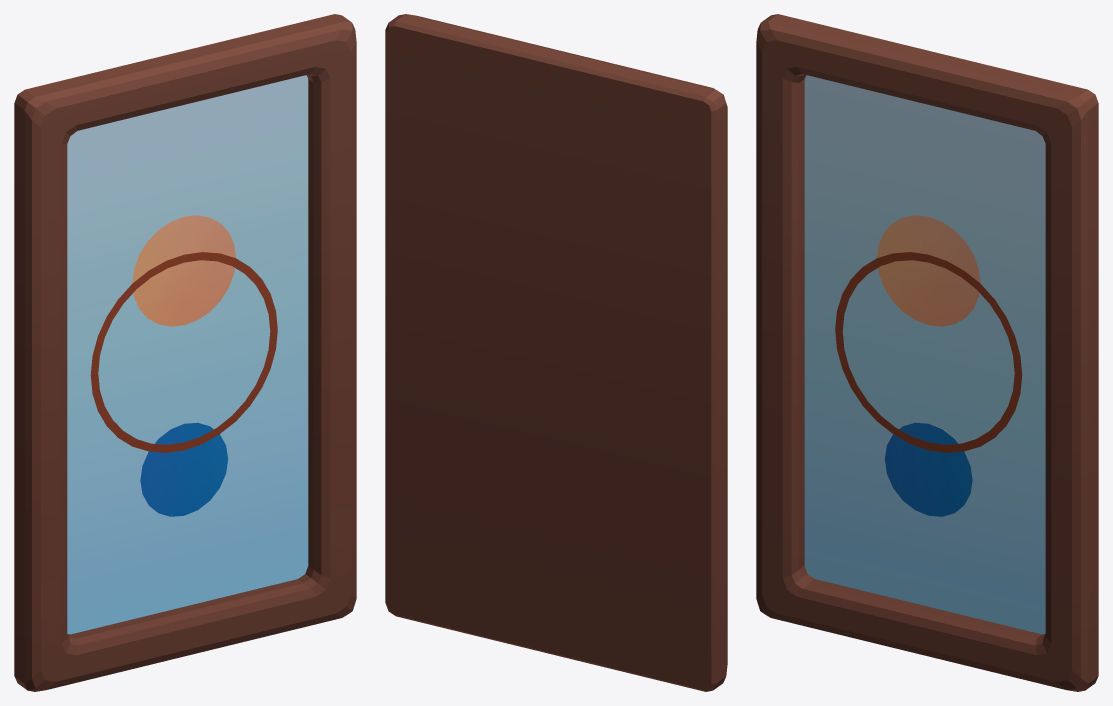
Rendered from Picture_17.glb.
The picture shows the model from 3 angles, left to right: view 1: azimuth 30°, elevation 25°; view 2: azimuth 150°, elevation 25°; view 3: azimuth 330°, elevation 25°; orthographic projection.
Visible parts, largest first — view 1: Picture_17; view 2: Picture_17; view 3: Picture_17.
Boxes of the visible parts, x1,y1,x2,y2 form: Picture_17: (14, 14, 356, 691); Picture_17: (385, 14, 727, 691); Picture_17: (756, 14, 1098, 691).
Bounding box in the file's own units: 0.6401 × 1.1 × 0.06.
Materials: 1 (1 with a texture image).
